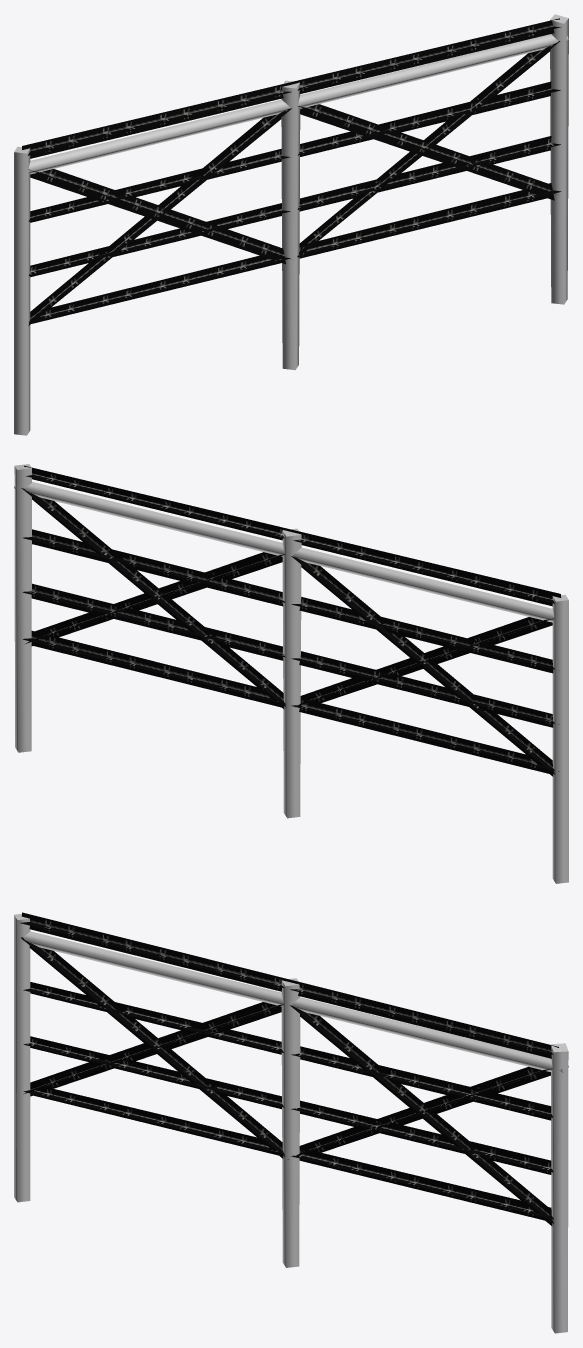
Rendered from Barbed_fence_LOD1.fbx.
3 views of the same model, one above another, from view 1: azimuth 30°, elevation 25°; view 2: azimuth 150°, elevation 25°; view 3: azimuth 330°, elevation 25° (orthographic).
Parts seen in each view (by area): view 1: polySurface136; view 2: polySurface136; view 3: polySurface136.
Part boxes in pixels (x1,y1,x2,y2): polySurface136: [14, 14, 568, 435]; polySurface136: [14, 464, 568, 883]; polySurface136: [14, 912, 568, 1333].
Bounding box in the file's own units: 3 × 1.48 × 0.1032.
